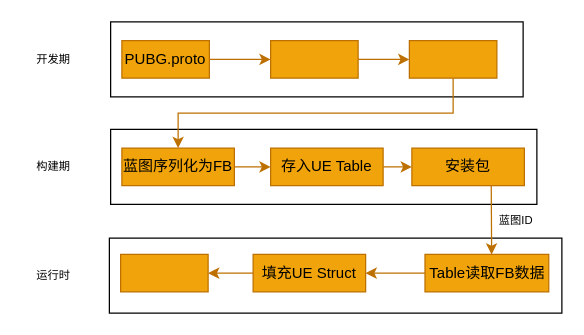
Some shapes in this 584 by 335 pixel diagram are drawn without their labels. The centre of each missing label's shape, as x and y in pixels:
"客户端 / DS" goes at (x=163, y=272).
"提交svn" goes at (x=452, y=58).
"生成代码" goes at (x=313, y=58).
